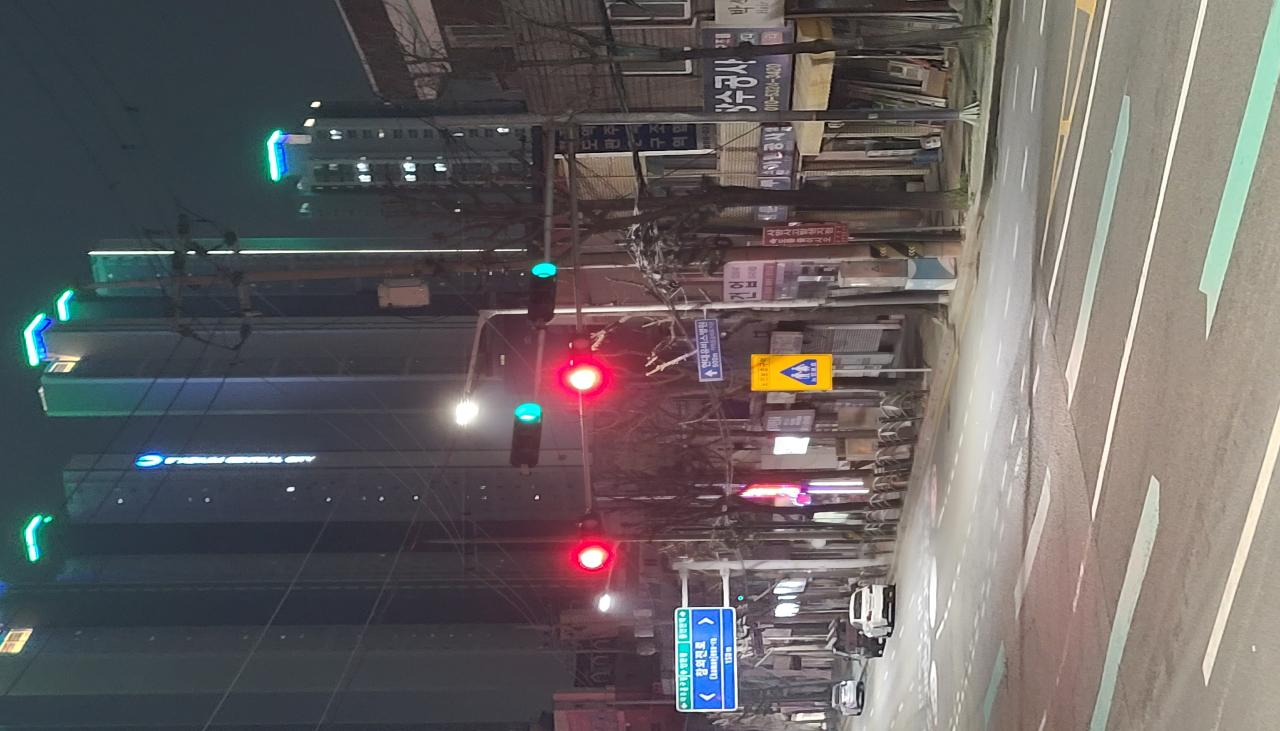Green Light: (404, 390, 432, 415), (588, 402, 617, 424)
Red Light: (210, 440, 244, 462), (447, 430, 476, 455)
